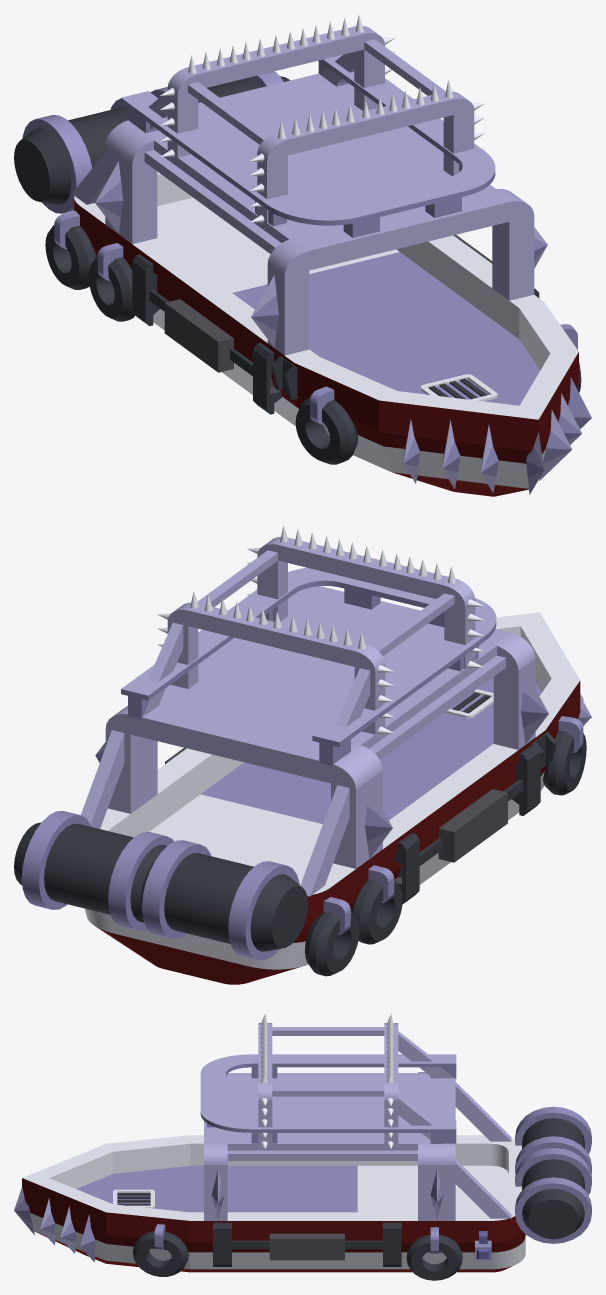
The model's file is boat Boss.fbx.
3 renders of one model, top to bottom at view 1: azimuth 30°, elevation 25°; view 2: azimuth 150°, elevation 25°; view 3: azimuth 270°, elevation 25°, orthographic. The views are drawn at different scales.
Visible parts, largest first — view 1: detail_rollbarLarge (×2), hull_half, block, rail_front, hut_openHalf, hull_halfFront, detail_rollbar (×2), rail, detail_tireAttachment (×3), detail_tank (×2), hull_halfBack, bogie_frame (+4 smaller); view 2: detail_tank (×2), detail_rollbar (×2), detail_rollbarLarge (×2), block, hull_halfBack, hut_openHalf, hull_half, detail_tireAttachment (×3), rail_back, bogie_frame, rail, rail_front (+3 smaller); view 3: detail_rollbarLarge (×2), hull_half, block, detail_tank (×2), rail_front, hut_openHalf, hull_halfBack, detail_rollbar (×2), rail_back, hull_halfFront, rail, bogie_frame (+4 smaller).
Part boxes in pixels (x1=…): detail_rollbarLarge (×2): x1=115, y1=35, x2=534, y2=355; hull_half: x1=221, y1=252, x2=518, y2=426; block: x1=153, y1=91, x2=495, y2=242; rail_front: x1=294, y1=302, x2=578, y2=450; hut_openHalf: x1=121, y1=54, x2=495, y2=237; hull_halfFront: x1=296, y1=339, x2=578, y2=496; detail_rollbar (×2): x1=72, y1=26, x2=384, y2=231; rail: x1=175, y1=235, x2=543, y2=378; detail_tireAttachment (×3): x1=45, y1=211, x2=357, y2=464; detail_tank (×2): x1=14, y1=71, x2=290, y2=213; hull_halfBack: x1=92, y1=197, x2=399, y2=330; bogie_frame: x1=132, y1=254, x2=281, y2=414; detail_tank (×2): x1=14, y1=811, x2=307, y2=960; detail_rollbar (×2): x1=81, y1=602, x2=385, y2=896; detail_rollbarLarge (×2): x1=124, y1=537, x2=535, y2=861; block: x1=162, y1=596, x2=496, y2=748; hull_halfBack: x1=85, y1=794, x2=420, y2=984; hut_openHalf: x1=121, y1=567, x2=496, y2=766; hull_half: x1=201, y1=731, x2=543, y2=884; detail_tireAttachment (×3): x1=305, y1=716, x2=586, y2=976; rail_back: x1=100, y1=757, x2=425, y2=927; bogie_frame: x1=394, y1=744, x2=540, y2=904; rail: x1=175, y1=728, x2=545, y2=847; rail_front: x1=495, y1=612, x2=580, y2=739; detail_rollbarLarge (×2): x1=204, y1=1023, x2=441, y2=1220; hull_half: x1=190, y1=1165, x2=357, y2=1272; block: x1=227, y1=1073, x2=418, y2=1150; detail_tank (×2): x1=515, y1=1106, x2=591, y2=1243; rail_front: x1=22, y1=1135, x2=189, y2=1242; hut_openHalf: x1=200, y1=1054, x2=456, y2=1144; hull_halfBack: x1=357, y1=1165, x2=525, y2=1272; detail_rollbar (×2): x1=384, y1=1023, x2=511, y2=1220; rail_back: x1=357, y1=1135, x2=522, y2=1242; hull_halfFront: x1=25, y1=1166, x2=189, y2=1272; rail: x1=190, y1=1135, x2=357, y2=1242; bogie_frame: x1=213, y1=1222, x2=401, y2=1266.
Size of the model in its own units: 29.74 by 28.99 by 71.29.
